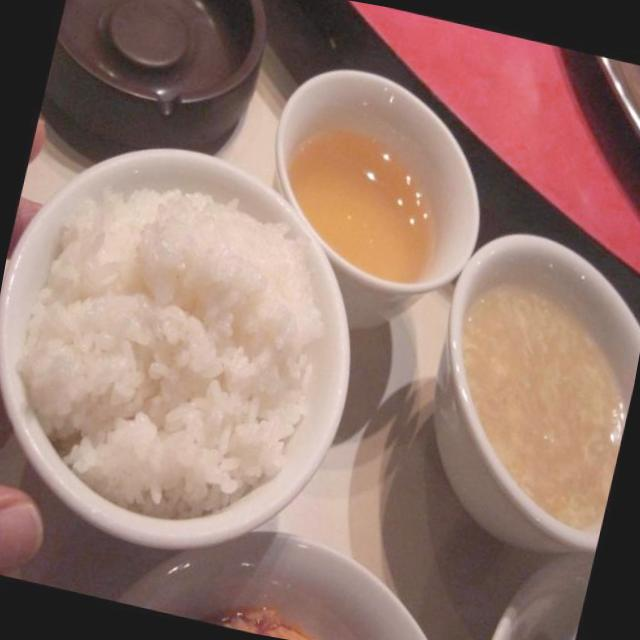Rice: (0, 94, 403, 585)
